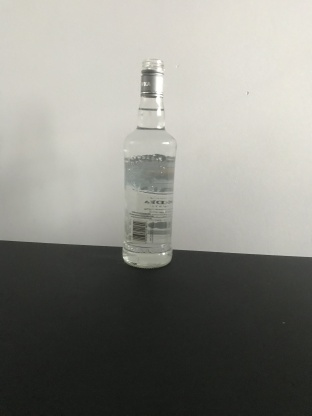nakretka: (138, 56, 166, 98)
